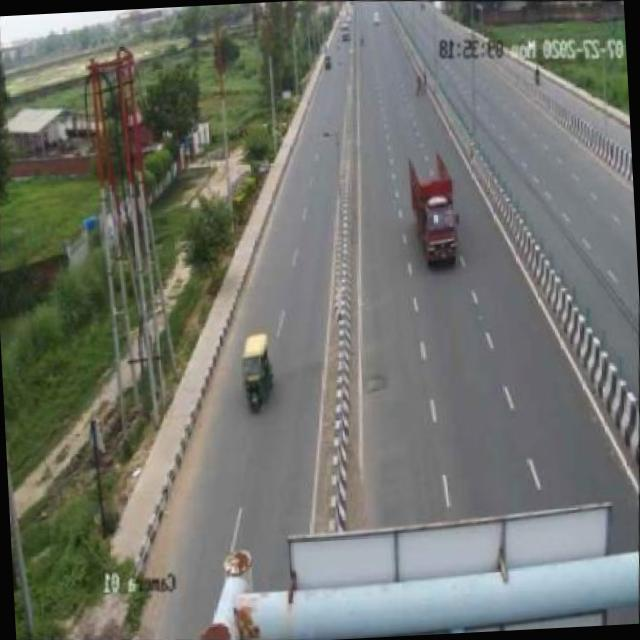car: (239, 331, 280, 413)
